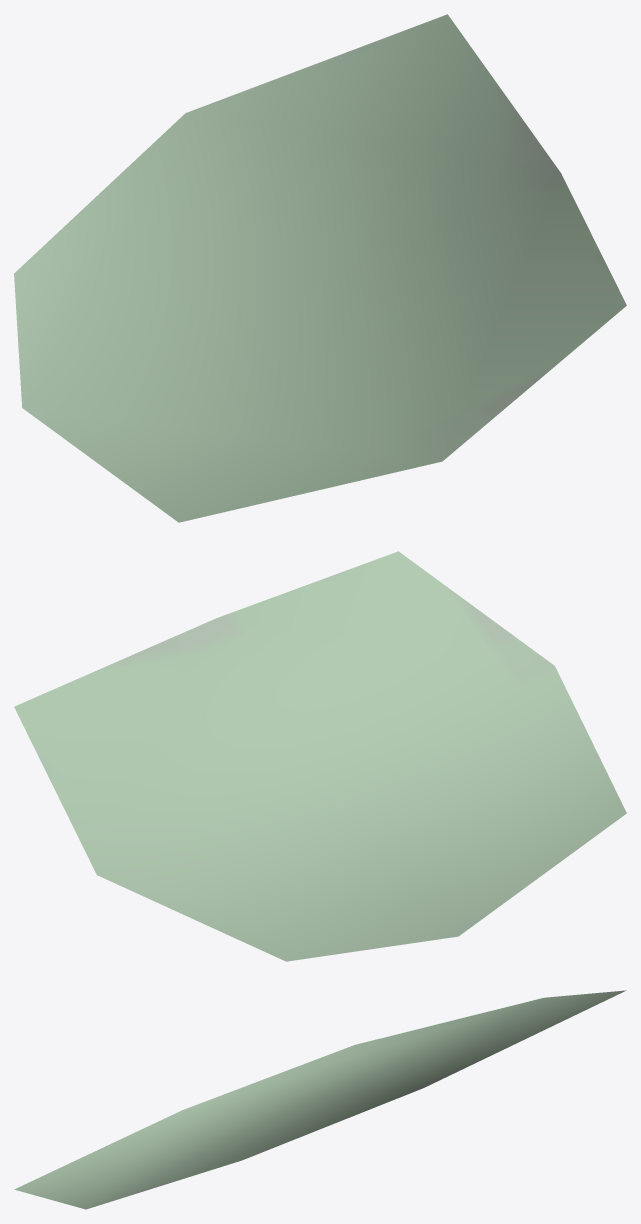
File: TROLLHOLE02_HOLECAP89.fbx
The picture shows the model from 3 angles, top to bottom: view 1: azimuth 30°, elevation 25°; view 2: azimuth 150°, elevation 25°; view 3: azimuth 330°, elevation 25°; orthographic projection. The views are drawn at different scales.
Parts seen in each view (by area): view 1: TROLLHOLE02_HOLECAP89; view 2: TROLLHOLE02_HOLECAP89; view 3: TROLLHOLE02_HOLECAP89.
Boxes of the visible parts, x1,y1,x2,y2 form: TROLLHOLE02_HOLECAP89: (14,14,626,522); TROLLHOLE02_HOLECAP89: (14,551,626,961); TROLLHOLE02_HOLECAP89: (14,990,626,1209).
Bounding box in the file's own units: 8160 × 3306 × 11319.
1 material, 1 textured.
